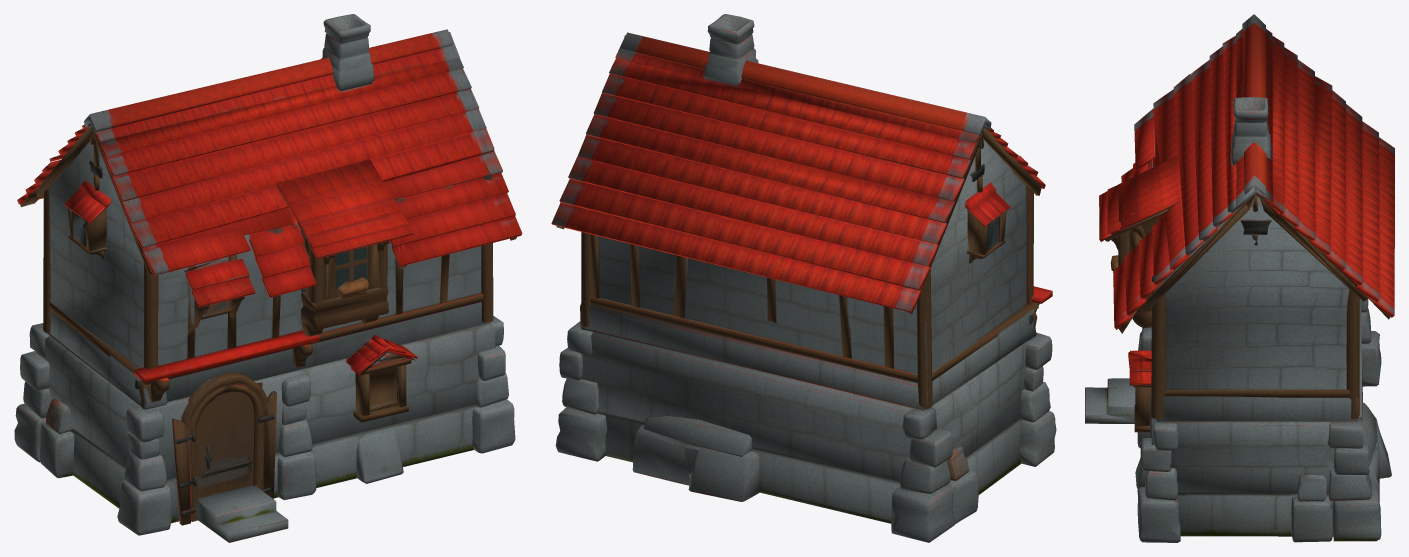
Rendered from house_a_kargath.glb.
3 views of the same model, side by side, from view 1: azimuth 30°, elevation 25°; view 2: azimuth 150°, elevation 25°; view 3: azimuth 270°, elevation 25° (orthographic). The views are drawn at different scales.
Bounding box in the file's own units: 0.9385 × 0.9531 × 0.688.
Materials: 1 (1 with a texture image).
